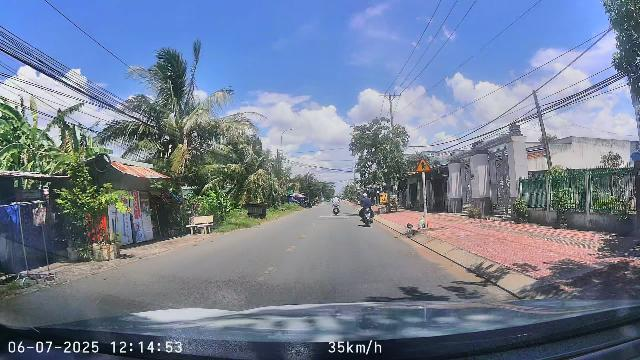207-giao-nhau-voi-duong-khong-uu-tien: (416, 157, 431, 172)
